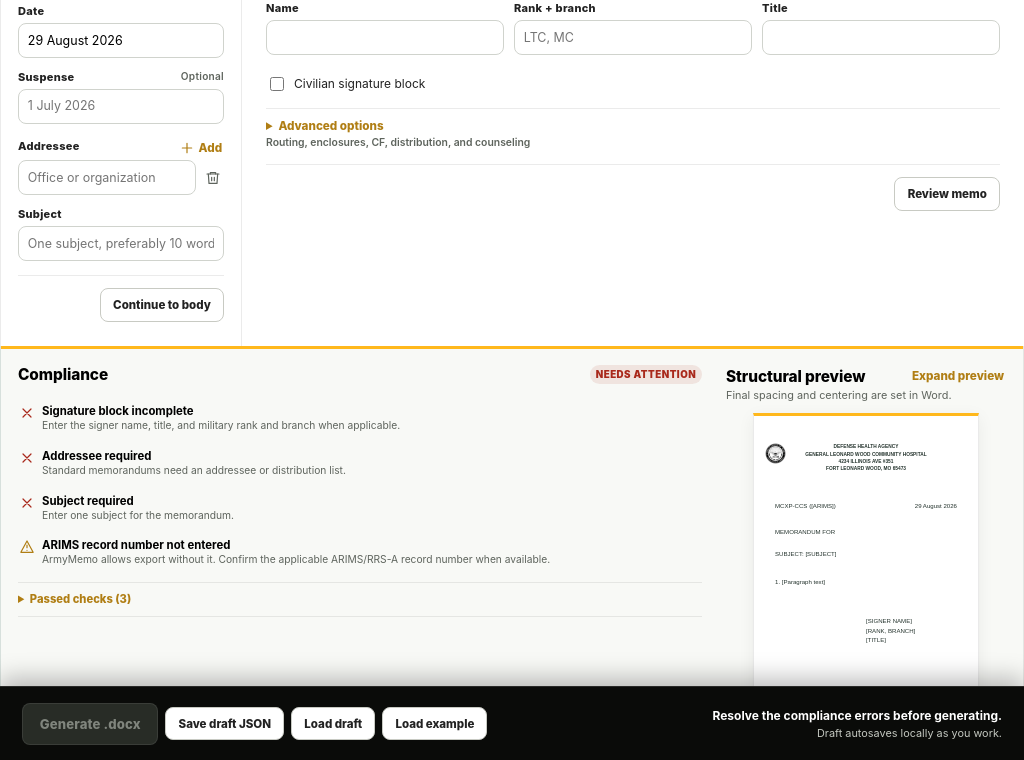
Test: ArmyMemo editor › expands the preview and restores focus after Escape
(page scrolled)
Click the button "Expand preview" at (958, 376), box top-left (910, 365), bottom-right (1006, 388)
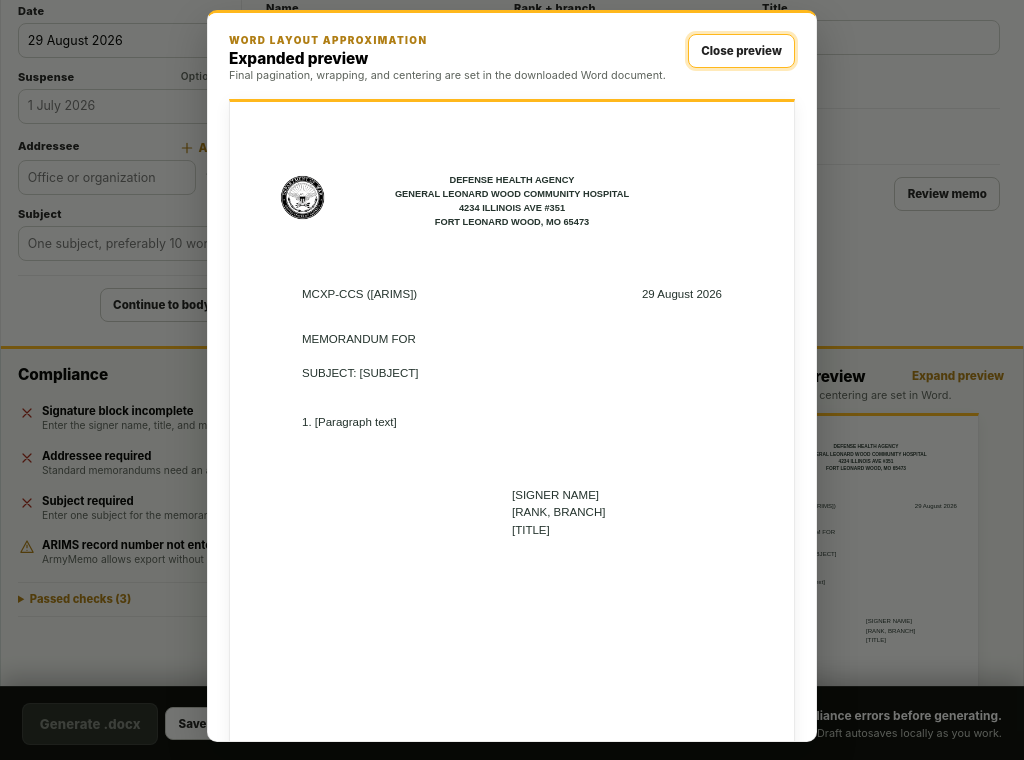
Expected: the dialog "Expanded preview" is shown, top-left (207, 10), bottom-right (817, 742)
Press Escape
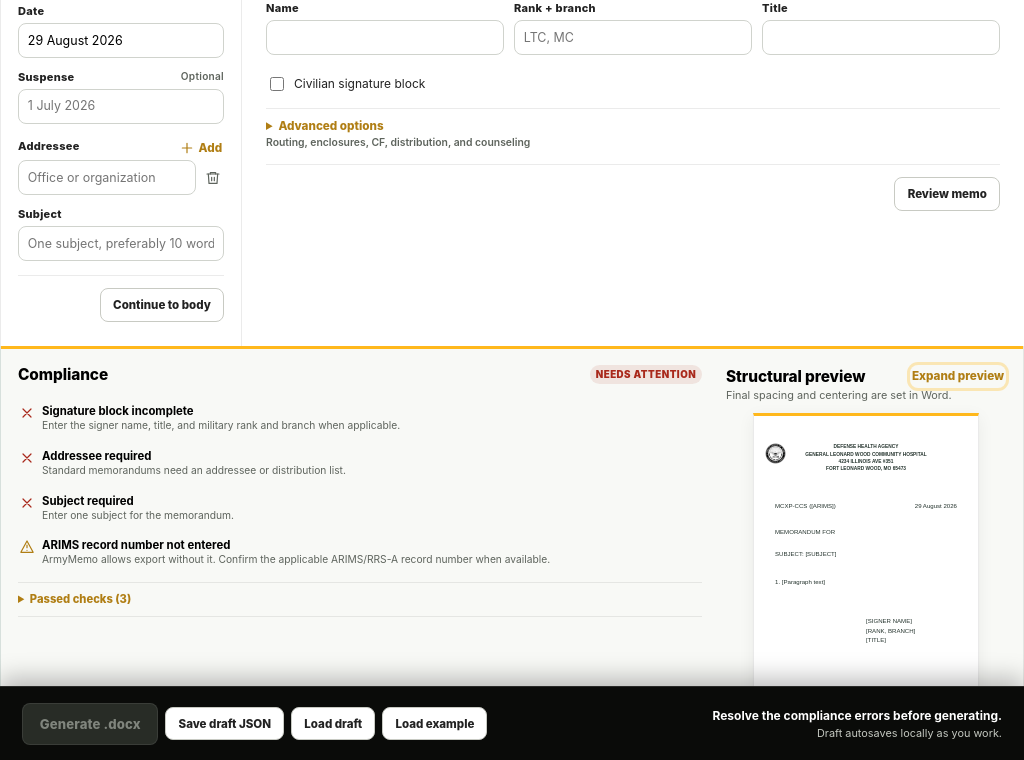
Expected: the heading "Expanded preview" is gone
